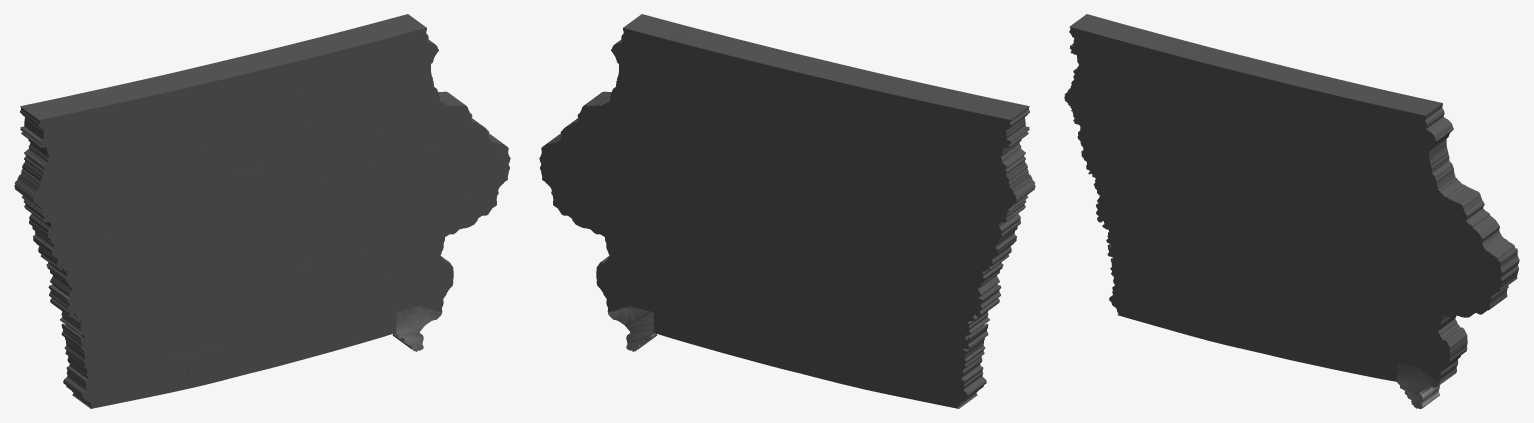
Rendered from iowa.obj.
3 renders of one model, left to right at view 1: azimuth 30°, elevation 25°; view 2: azimuth 150°, elevation 25°; view 3: azimuth 330°, elevation 25°, orthographic. The views are drawn at different scales.
Parts seen in each view (by area): view 1: Mesh.094_kossuth_kossuth.mesh, Mesh.046_lyon_lyon.mesh, Mesh.013_pottawattamie_pottawattamie.mesh, Mesh.031_plymouth_plymouth.mesh, Mesh.066_woodbury_woodbury.mesh, Mesh.005_sioux_sioux.mesh, Mesh.072_harrison_harrison.mesh, Mesh.088_winneshiek_winneshiek.mesh, Mesh.076_allamakee_allamakee.mesh, Mesh.009_monona_monona.mesh, Mesh.091_clayton_clayton.mesh, Mesh.008_fremont_fremont.mesh (+87 smaller); view 2: Mesh.094_kossuth_kossuth.mesh, Mesh.046_lyon_lyon.mesh, Mesh.013_pottawattamie_pottawattamie.mesh, Mesh.031_plymouth_plymouth.mesh, Mesh.066_woodbury_woodbury.mesh, Mesh.005_sioux_sioux.mesh, Mesh.072_harrison_harrison.mesh, Mesh.088_winneshiek_winneshiek.mesh, Mesh.076_allamakee_allamakee.mesh, Mesh.009_monona_monona.mesh, Mesh.091_clayton_clayton.mesh, Mesh.008_fremont_fremont.mesh (+87 smaller); view 3: Mesh.091_clayton_clayton.mesh, Mesh.076_allamakee_allamakee.mesh, Mesh.094_kossuth_kossuth.mesh, Mesh.050_jackson_jackson.mesh, Mesh.071_dubuque_dubuque.mesh, Mesh.046_lyon_lyon.mesh, Mesh.088_winneshiek_winneshiek.mesh, Mesh.013_pottawattamie_pottawattamie.mesh, Mesh.077_clinton_clinton.mesh, Mesh.066_woodbury_woodbury.mesh, Mesh.031_plymouth_plymouth.mesh, Mesh.005_sioux_sioux.mesh (+87 smaller).
Boxes of the visible parts, box(x1,y1,x2,y2) form: Mesh.094_kossuth_kossuth.mesh: box(176, 64, 228, 147); Mesh.046_lyon_lyon.mesh: box(20, 95, 92, 144); Mesh.013_pottawattamie_pottawattamie.mesh: box(60, 304, 138, 351); Mesh.031_plymouth_plymouth.mesh: box(14, 167, 90, 215); Mesh.066_woodbury_woodbury.mesh: box(24, 202, 102, 249); Mesh.005_sioux_sioux.mesh: box(21, 132, 91, 180); Mesh.072_harrison_harrison.mesh: box(48, 270, 113, 317); Mesh.088_winneshiek_winneshiek.mesh: box(346, 21, 399, 86); Mesh.076_allamakee_allamakee.mesh: box(380, 14, 438, 78); Mesh.009_monona_monona.mesh: box(33, 236, 102, 282); Mesh.091_clayton_clayton.mesh: box(400, 70, 452, 122); Mesh.008_fremont_fremont.mesh: box(63, 364, 120, 408); Mesh.094_kossuth_kossuth.mesh: box(821, 64, 873, 147); Mesh.046_lyon_lyon.mesh: box(957, 95, 1029, 144); Mesh.013_pottawattamie_pottawattamie.mesh: box(911, 304, 989, 351); Mesh.031_plymouth_plymouth.mesh: box(959, 167, 1035, 215); Mesh.066_woodbury_woodbury.mesh: box(947, 202, 1025, 249); Mesh.005_sioux_sioux.mesh: box(958, 132, 1028, 180); Mesh.072_harrison_harrison.mesh: box(936, 270, 1001, 317); Mesh.088_winneshiek_winneshiek.mesh: box(650, 21, 703, 86); Mesh.076_allamakee_allamakee.mesh: box(611, 14, 669, 78); Mesh.009_monona_monona.mesh: box(947, 236, 1016, 282); Mesh.091_clayton_clayton.mesh: box(597, 70, 649, 122); Mesh.008_fremont_fremont.mesh: box(929, 364, 986, 408); Mesh.091_clayton_clayton.mesh: box(1401, 144, 1466, 201); Mesh.076_allamakee_allamakee.mesh: box(1400, 97, 1453, 156); Mesh.094_kossuth_kossuth.mesh: box(1211, 52, 1260, 128); Mesh.050_jackson_jackson.mesh: box(1450, 220, 1518, 269); Mesh.071_dubuque_dubuque.mesh: box(1433, 186, 1495, 238); Mesh.046_lyon_lyon.mesh: box(1069, 14, 1135, 62); Mesh.088_winneshiek_winneshiek.mesh: box(1368, 90, 1416, 149); Mesh.013_pottawattamie_pottawattamie.mesh: box(1102, 224, 1161, 272); Mesh.077_clinton_clinton.mesh: box(1451, 258, 1519, 296); Mesh.066_woodbury_woodbury.mesh: box(1073, 116, 1128, 164); Mesh.031_plymouth_plymouth.mesh: box(1064, 83, 1116, 128); Mesh.005_sioux_sioux.mesh: box(1070, 50, 1117, 95).
Size of the model in its own units: 0.9969 by 0.6468 by 0.0686.
Materials: 2 (1 with a texture image).
